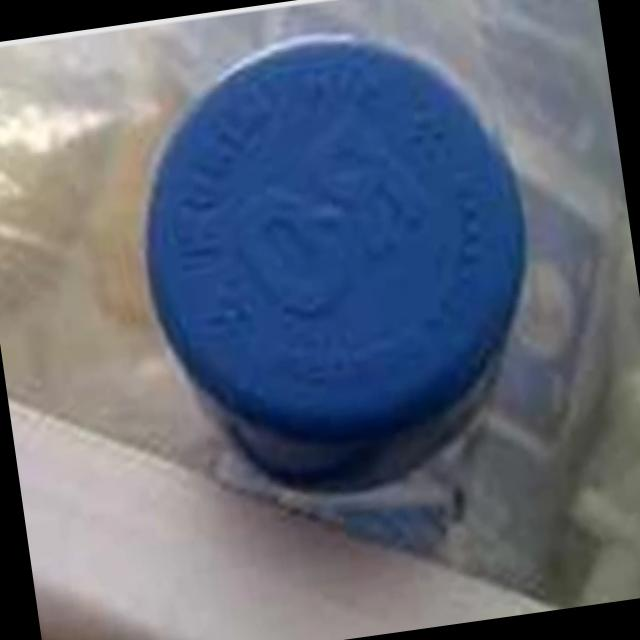TutupGalon: (105, 10, 562, 536)
